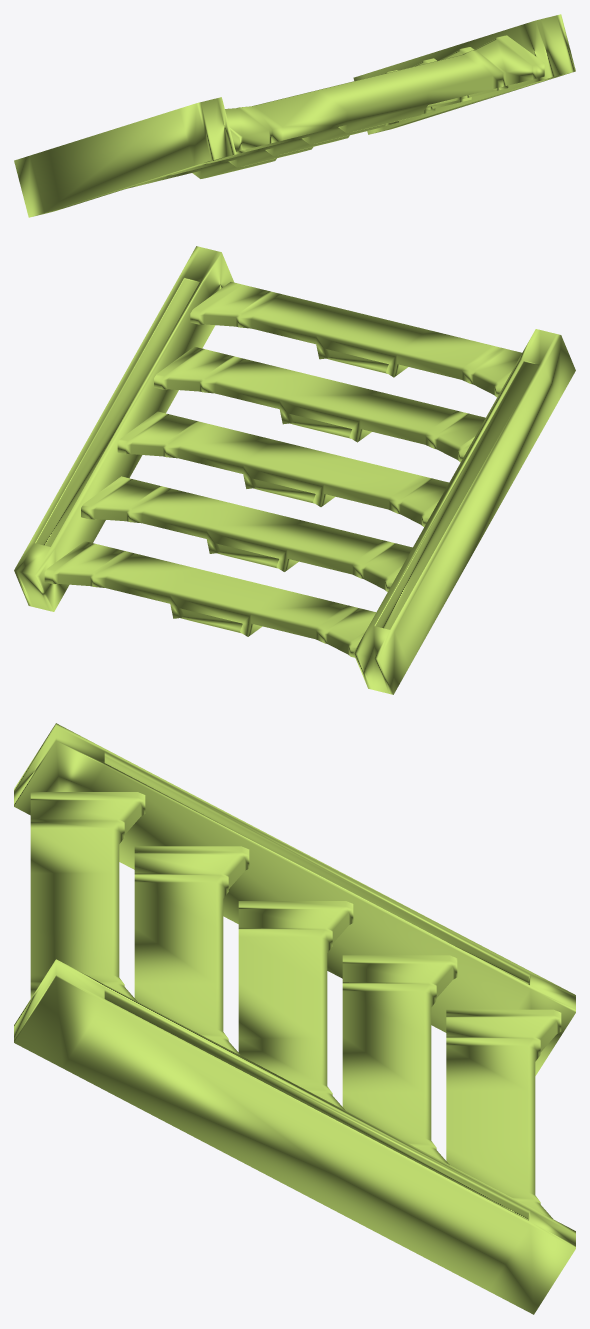
File: Centro De La Escalera.fbx
3 views of the same model, one above another, from view 1: azimuth 30°, elevation 25°; view 2: azimuth 150°, elevation 25°; view 3: azimuth 270°, elevation 25° (orthographic). The views are drawn at different scales.
Visible parts, largest first — view 1: Tile de escalera.003; view 2: Tile de escalera.003; view 3: Tile de escalera.003.
Part boxes in pixels (x1,y1,x2,y2): Tile de escalera.003: [14, 14, 575, 217]; Tile de escalera.003: [14, 246, 575, 694]; Tile de escalera.003: [14, 723, 575, 1314].
Bounding box in the file's own units: 200 × 124 × 187.
